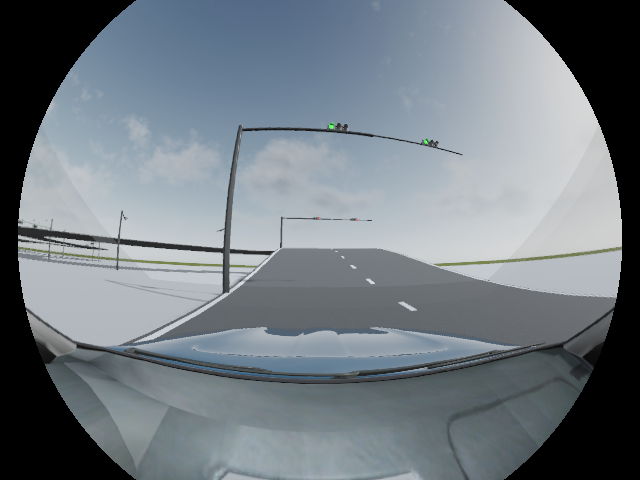Green Light: (423, 137, 441, 147), (328, 123, 349, 131)
